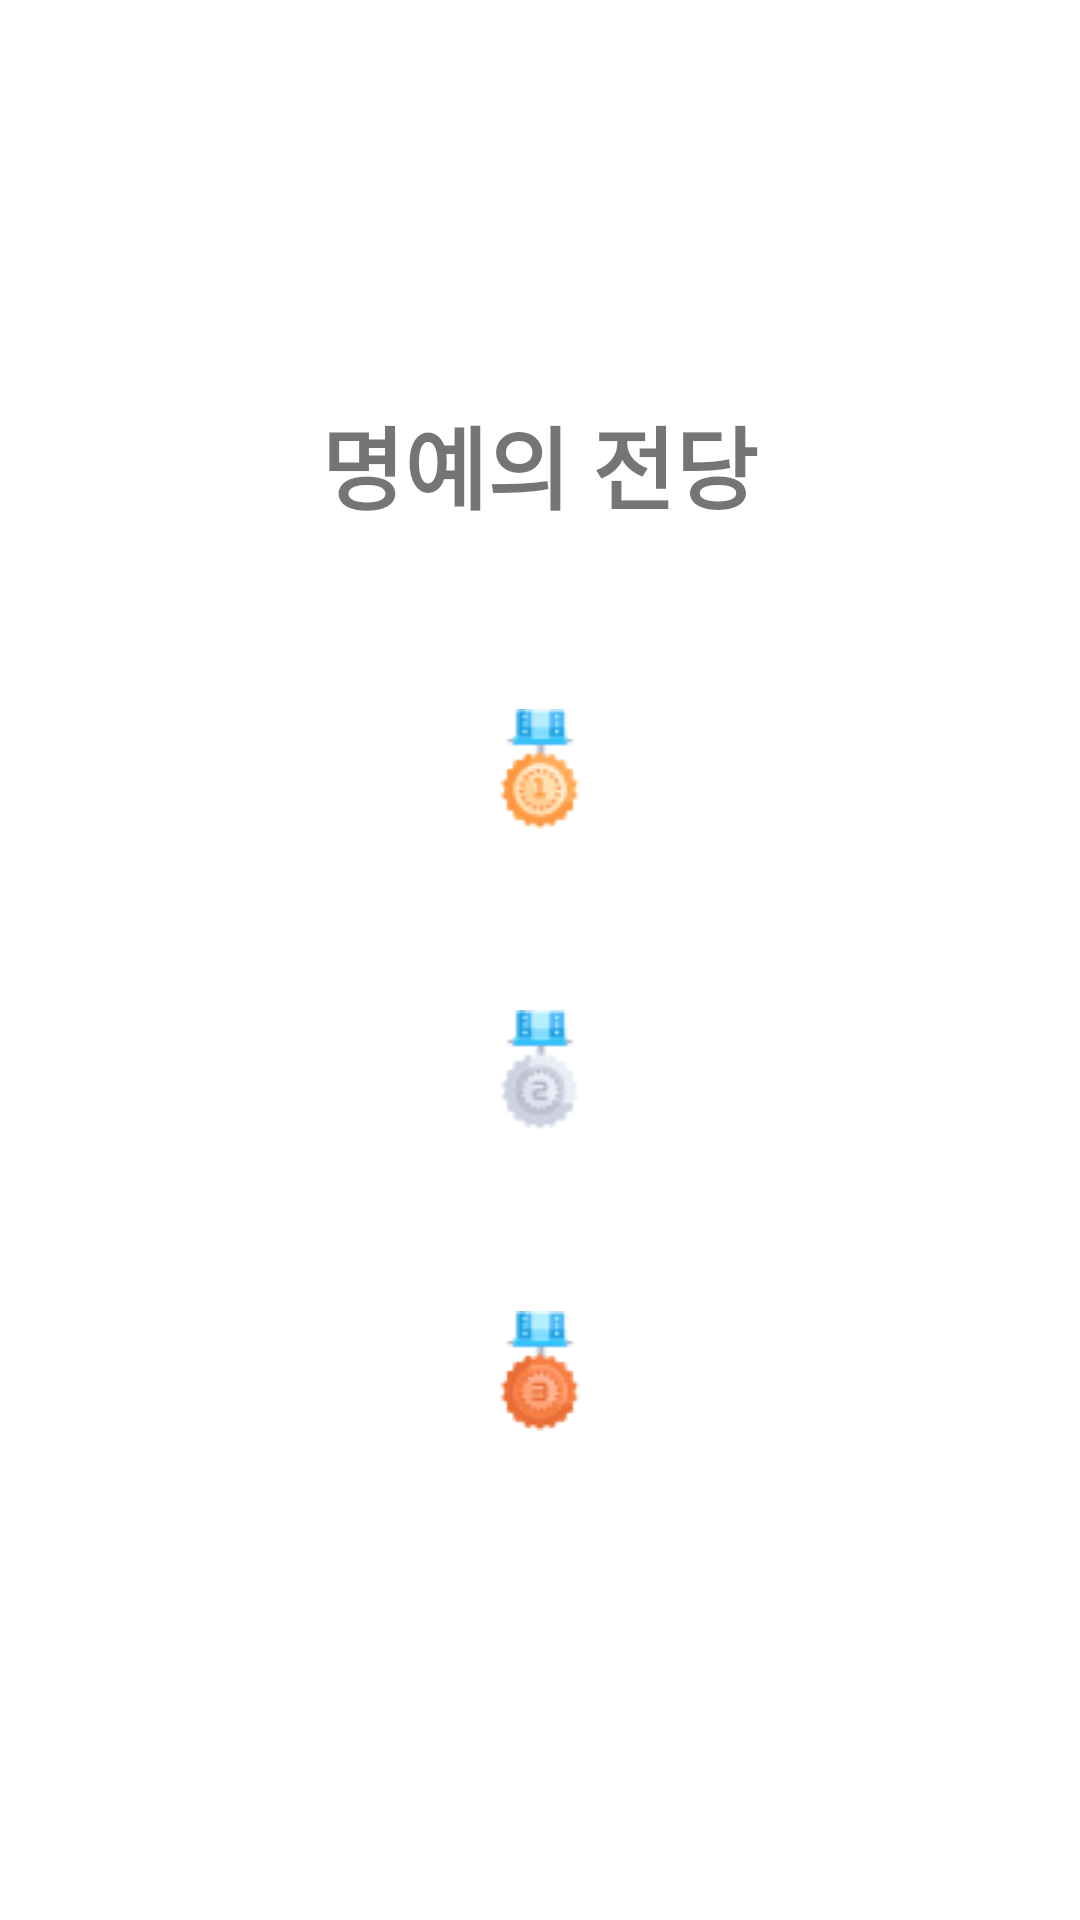

Where icons sit on this 1080×1920 app screen, as Rect(x1, y1, x2, y2):
top: Rect(500, 709, 579, 829), Rect(503, 1010, 573, 1127), Rect(500, 1311, 579, 1431)
